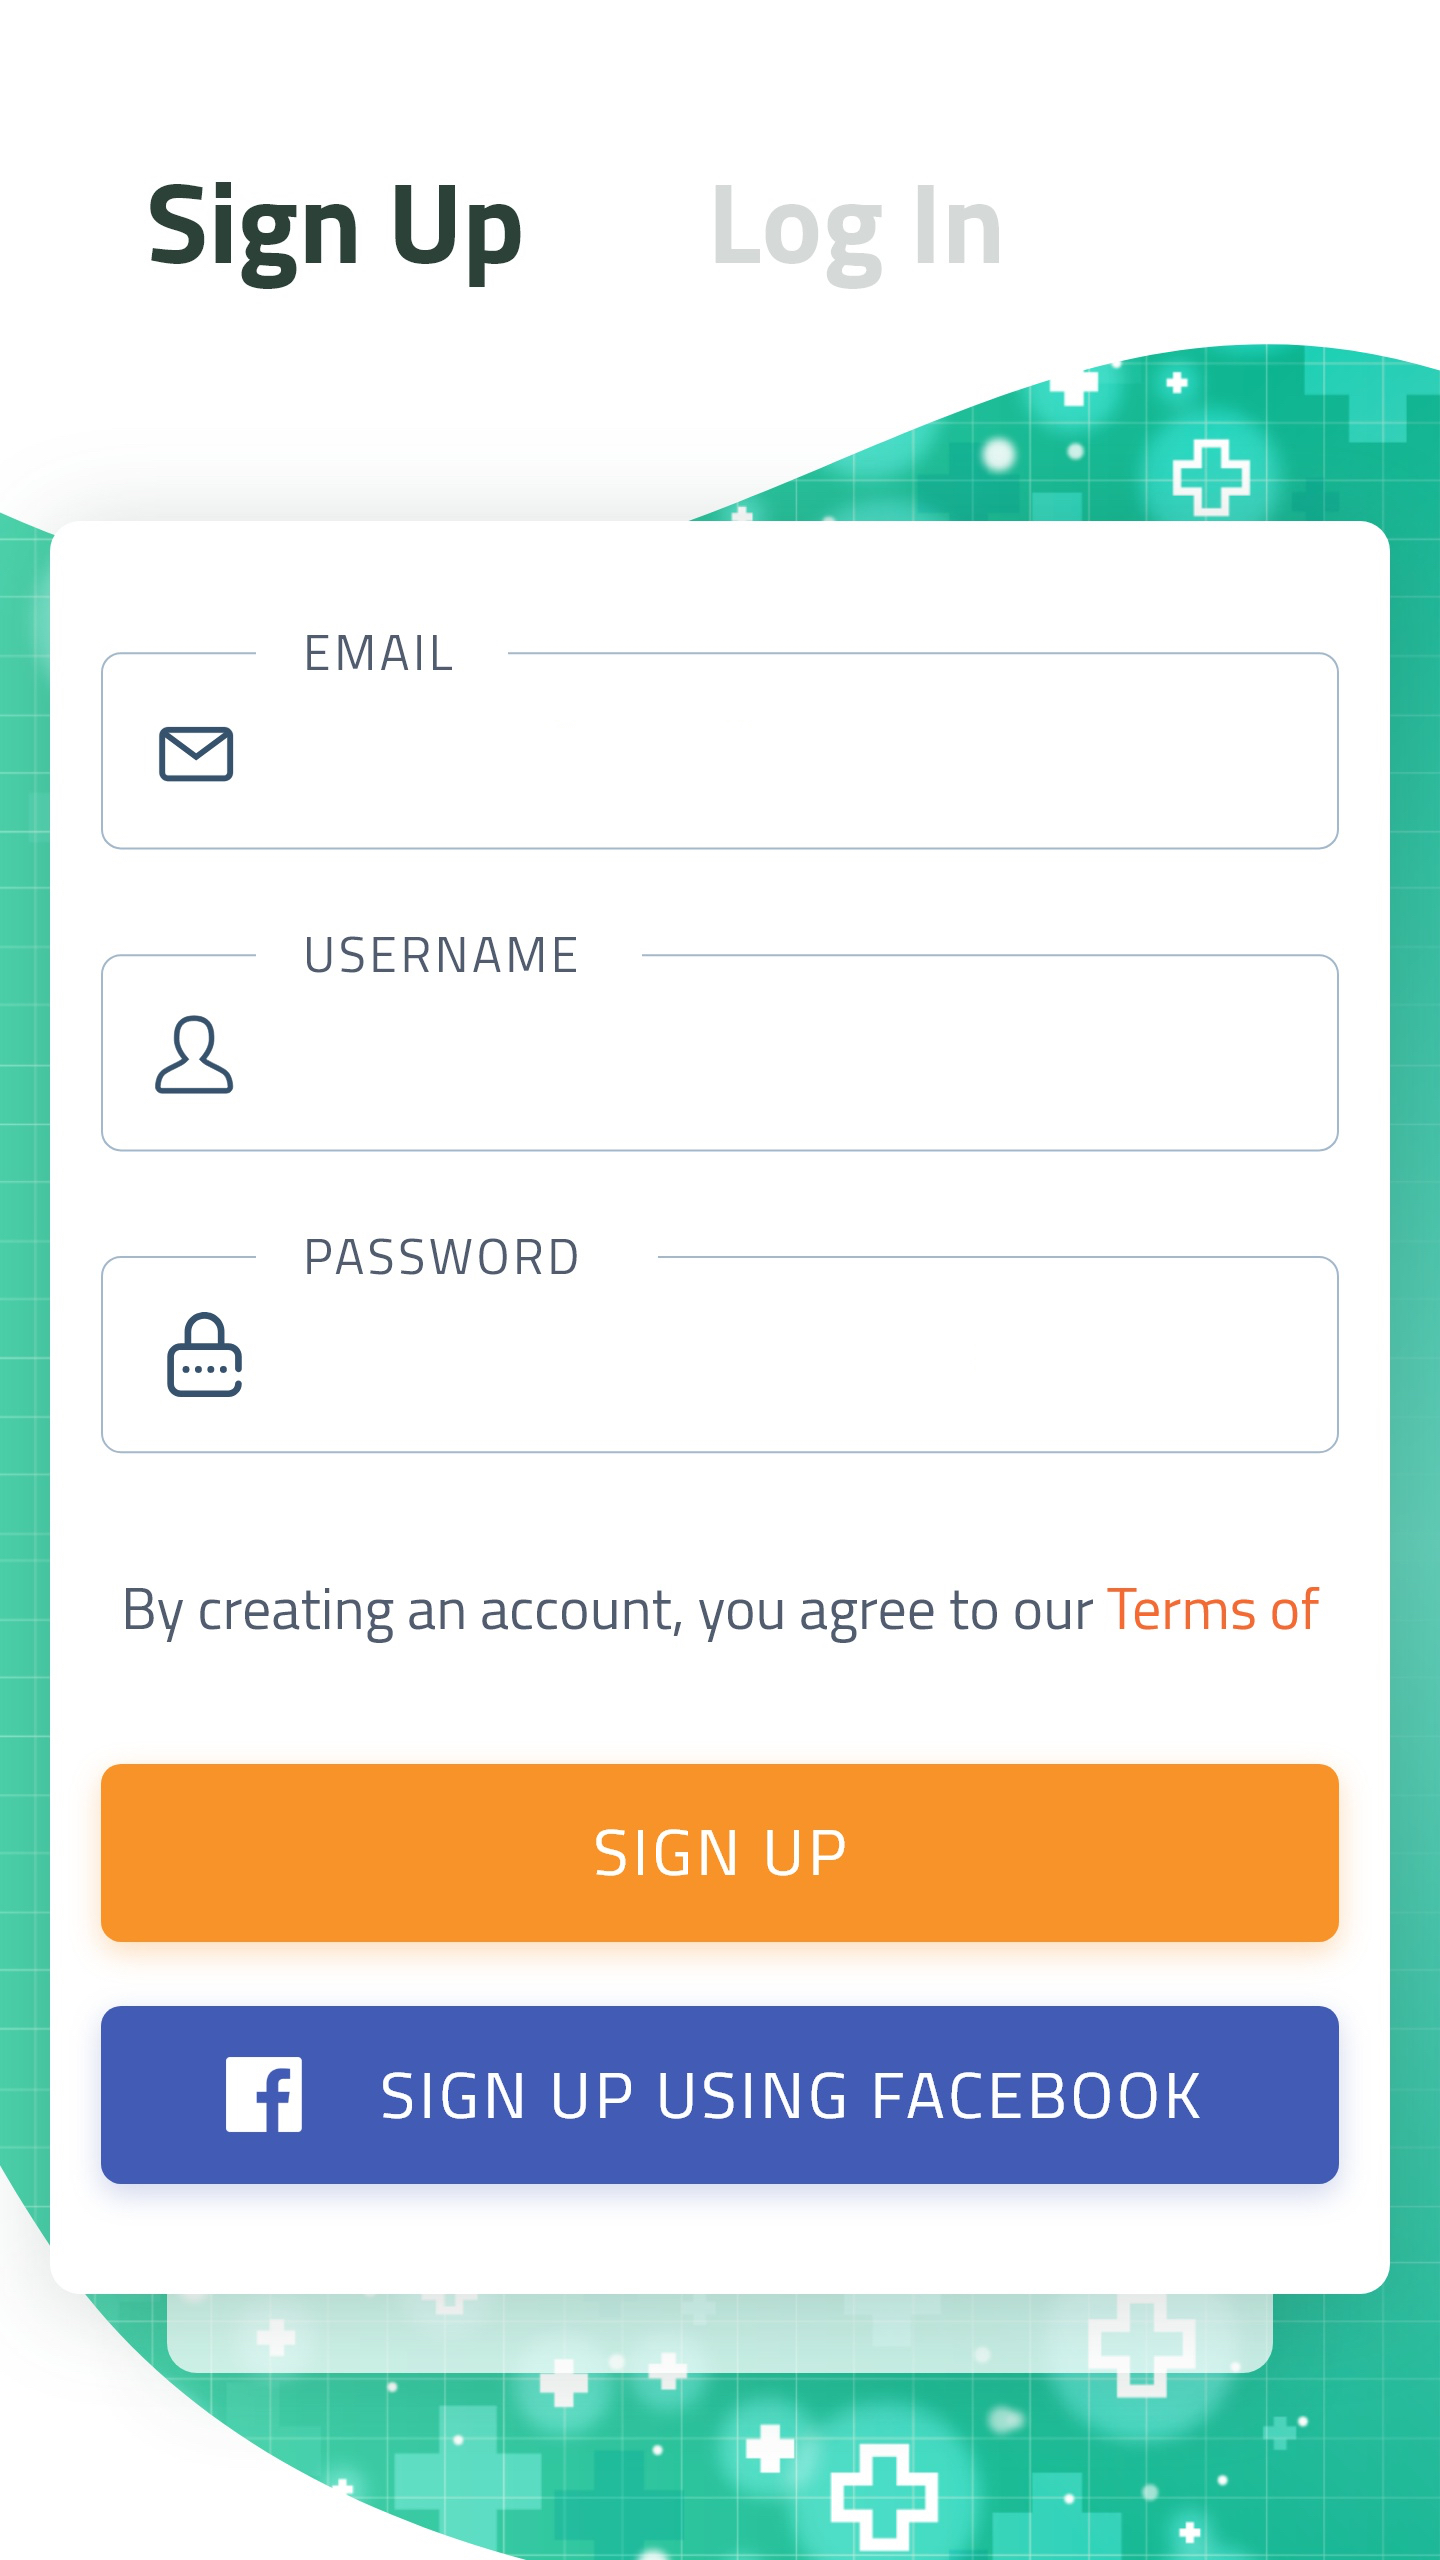EditText: (100, 635, 1340, 851), (100, 937, 1340, 1153), (100, 1240, 1340, 1456)
Icon: (155, 1015, 236, 1095), (167, 1312, 243, 1398), (158, 726, 236, 782)
Text: (127, 1586, 1320, 1644), (149, 183, 522, 290), (716, 185, 1000, 292), (308, 1240, 578, 1276), (308, 937, 578, 974), (308, 635, 454, 672)
TextButton: (100, 1764, 1340, 1943), (100, 2006, 1340, 2185)
